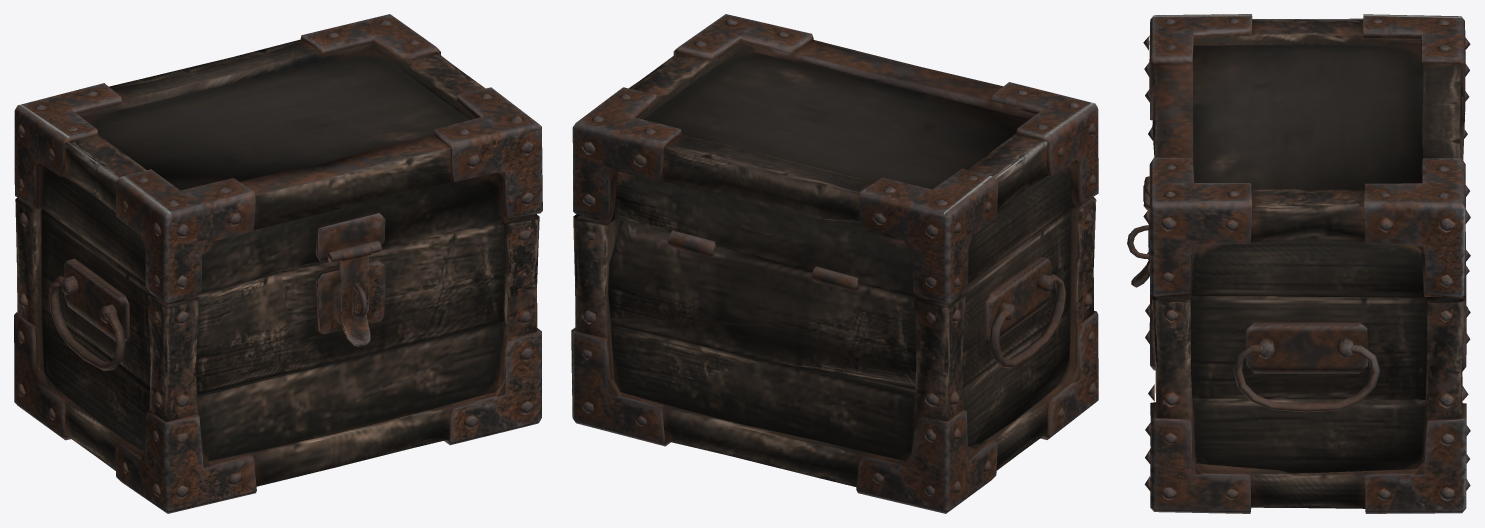
The picture shows the model from 3 angles, left to right: view 1: azimuth 30°, elevation 25°; view 2: azimuth 150°, elevation 25°; view 3: azimuth 270°, elevation 25°; orthographic projection. The views are drawn at different scales.
Bounding box in the file's own units: 1 × 0.7535 × 0.7319.
Materials: 1 (1 with a texture image).
